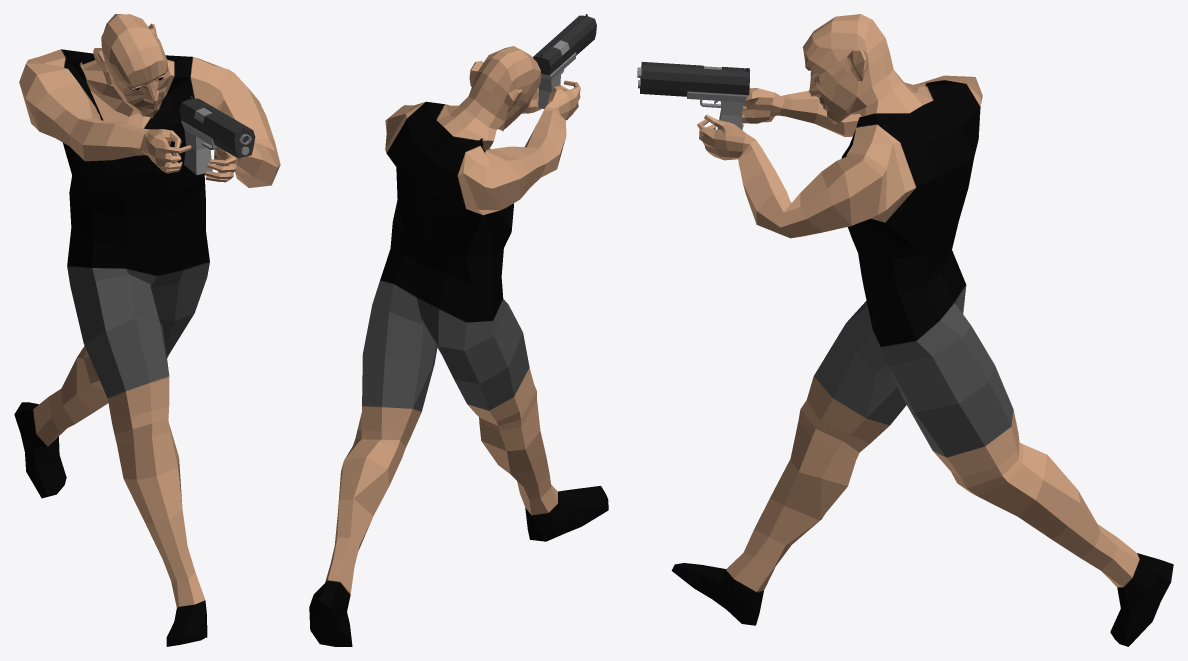
File: PlayerWalk(17).obj
3 renders of one model, left to right at view 1: azimuth 30°, elevation 25°; view 2: azimuth 150°, elevation 25°; view 3: azimuth 270°, elevation 25°, orthographic. The views are drawn at different scales.
Parts seen in each view (by area): view 1: Plane002, Box003; view 2: Plane002, Box003; view 3: Plane002, Box003.
Boxes of the visible parts, bbox=[...] form: Plane002: bbox=[14, 14, 280, 646]; Box003: bbox=[179, 96, 255, 175]; Plane002: bbox=[309, 46, 608, 646]; Box003: bbox=[533, 14, 596, 108]; Plane002: bbox=[671, 14, 1173, 646]; Box003: bbox=[637, 62, 749, 129].
Bounding box in the file's own units: 557 × 1657 × 1346.
